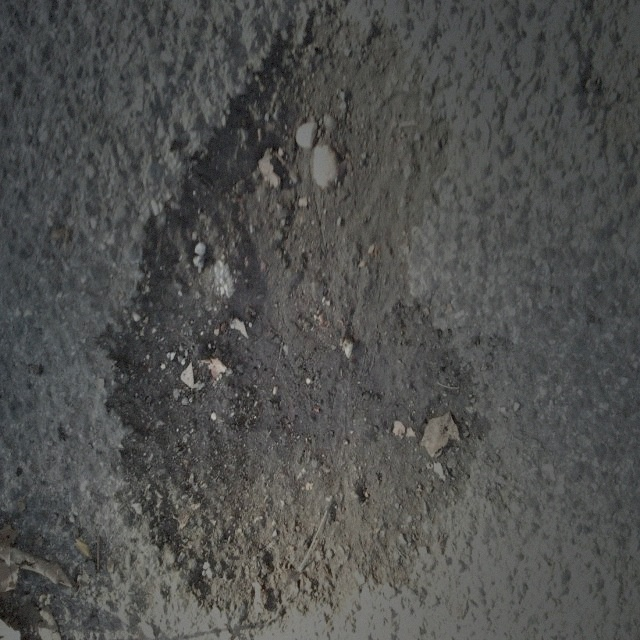pothole: (102, 15, 490, 605)
